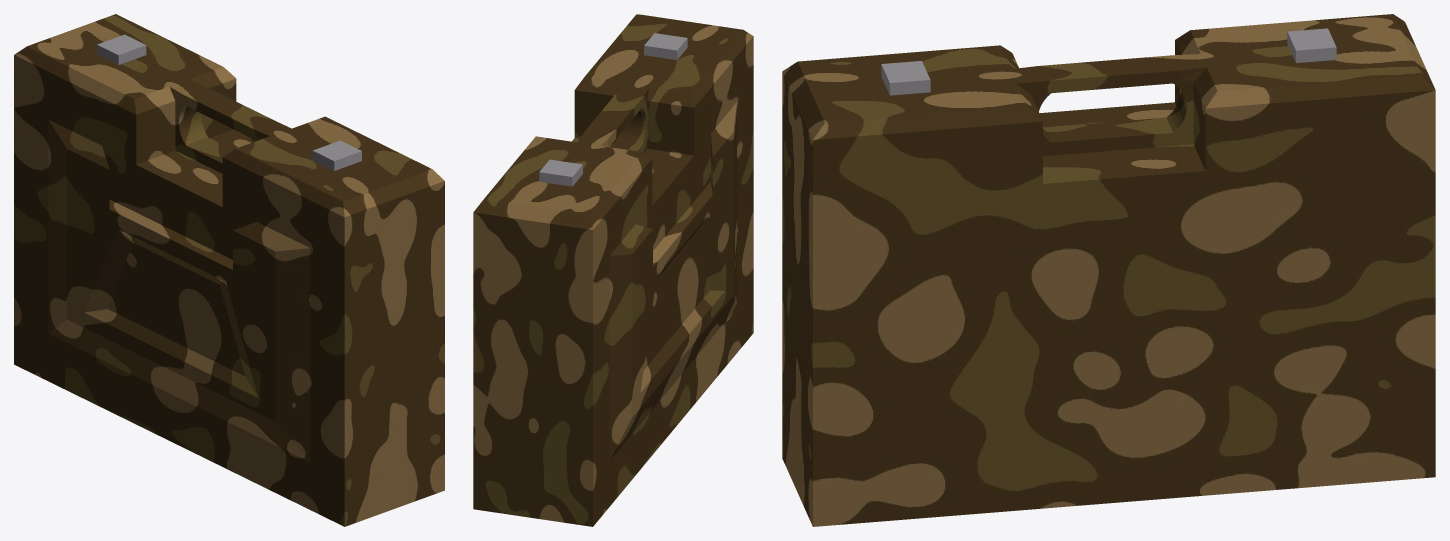
File: Camouflage suitcase with relief.fbx
3 views of the same model, side by side, from view 1: azimuth 30°, elevation 25°; view 2: azimuth 150°, elevation 25°; view 3: azimuth 270°, elevation 25° (orthographic). The views are drawn at different scales.
Visible parts, largest first — view 1: Camouflage suitcase with relief; view 2: Camouflage suitcase with relief; view 3: Camouflage suitcase with relief.
Part boxes in pixels (left/top/right/bottom): Camouflage suitcase with relief: left=14, top=14, right=444, bottom=526; Camouflage suitcase with relief: left=473, top=14, right=753, bottom=526; Camouflage suitcase with relief: left=782, top=14, right=1435, bottom=526.
Bounding box in the file's own units: 25.66 × 41.65 × 59.86.
